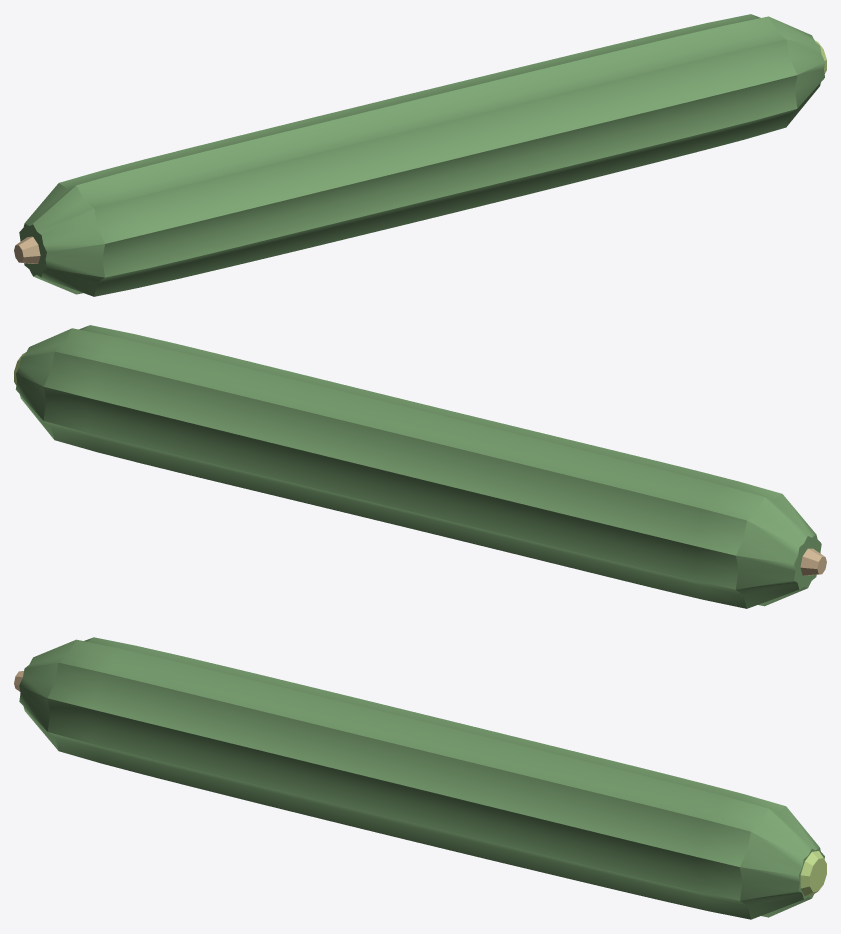
File: fresh-produce-and-groceries-cucumber-84f26e26__24373.glb
3 renders of one model, top to bottom at view 1: azimuth 30°, elevation 25°; view 2: azimuth 150°, elevation 25°; view 3: azimuth 330°, elevation 25°, orthographic.
Visible parts, largest first — view 1: cucumber; view 2: cucumber; view 3: cucumber.
Boxes of the visible parts, x1,y1,x2,y2 form: cucumber: (14,14,826,296); cucumber: (14,325,826,608); cucumber: (14,637,826,919).
Bounding box in the file's own units: 0.308 × 0.0422 × 0.0401.
